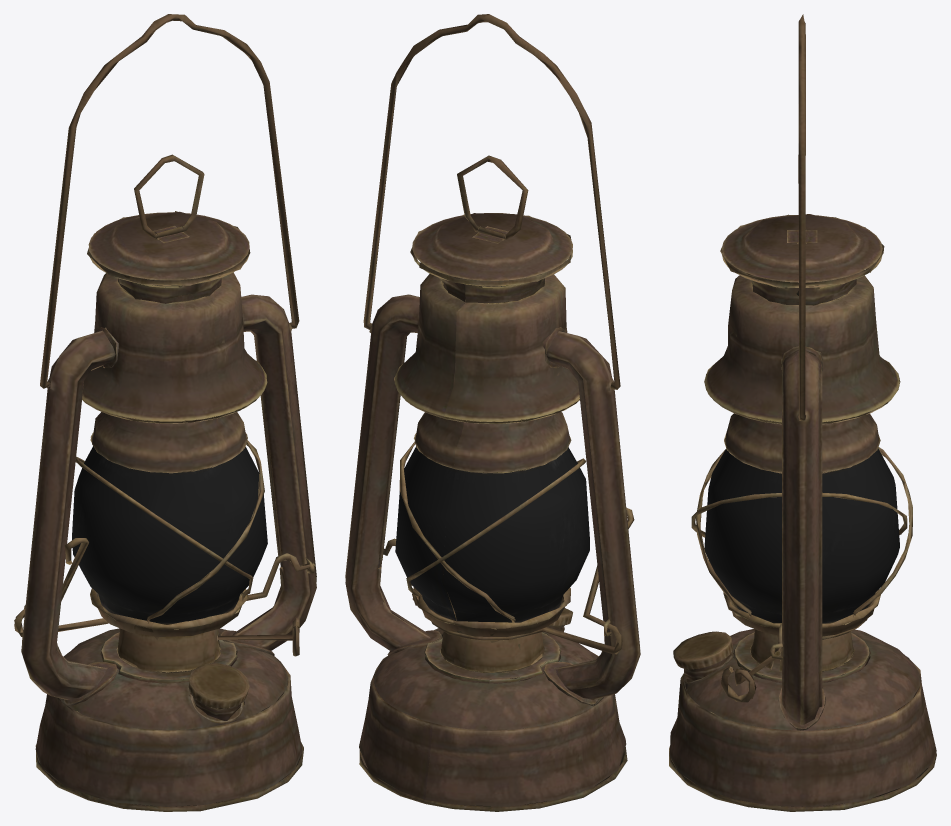
The picture shows the model from 3 angles, left to right: view 1: azimuth 30°, elevation 25°; view 2: azimuth 150°, elevation 25°; view 3: azimuth 270°, elevation 25°; orthographic projection.
Visible parts, largest first — view 1: Lantern_01; view 2: Lantern_01; view 3: Lantern_01.
Boxes of the visible parts, box(x1,y1,x2,y2) form: Lantern_01: box(14, 14, 316, 811); Lantern_01: box(345, 14, 640, 811); Lantern_01: box(669, 14, 936, 811).
Bounding box in the file's own units: 0.1226 × 0.2941 × 0.0968.
Materials: 2 (2 with a texture image).
